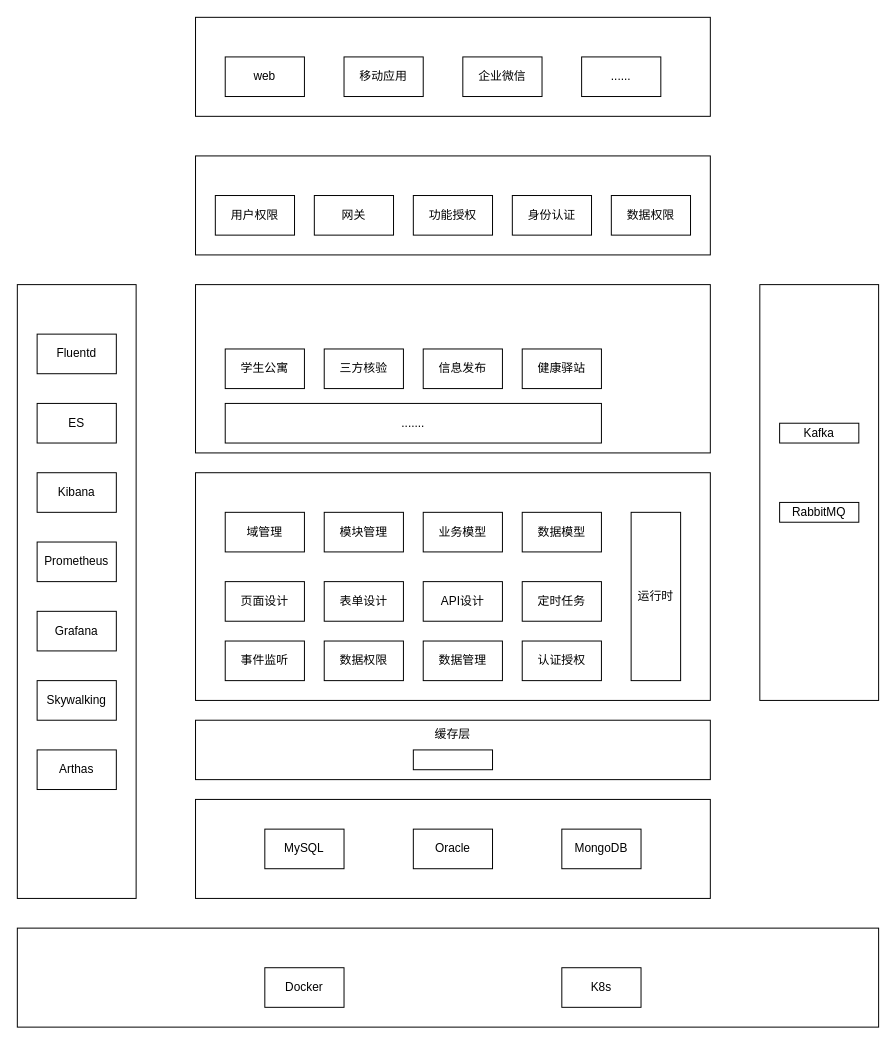
Some shapes in this 896 by 1044 pixel diagram are drawn without their labels. Each missing label, with the box of its shape:
Redis: (412, 749, 493, 770)
业务服务层: (195, 284, 710, 453)
中台: (195, 155, 710, 255)
事件总线: (759, 284, 879, 700)
低代码平台: (195, 472, 710, 700)
前端: (195, 16, 710, 116)
容器化以及编排: (16, 927, 879, 1027)
数据持久层: (195, 798, 710, 898)
监控诊断: (16, 284, 136, 898)
